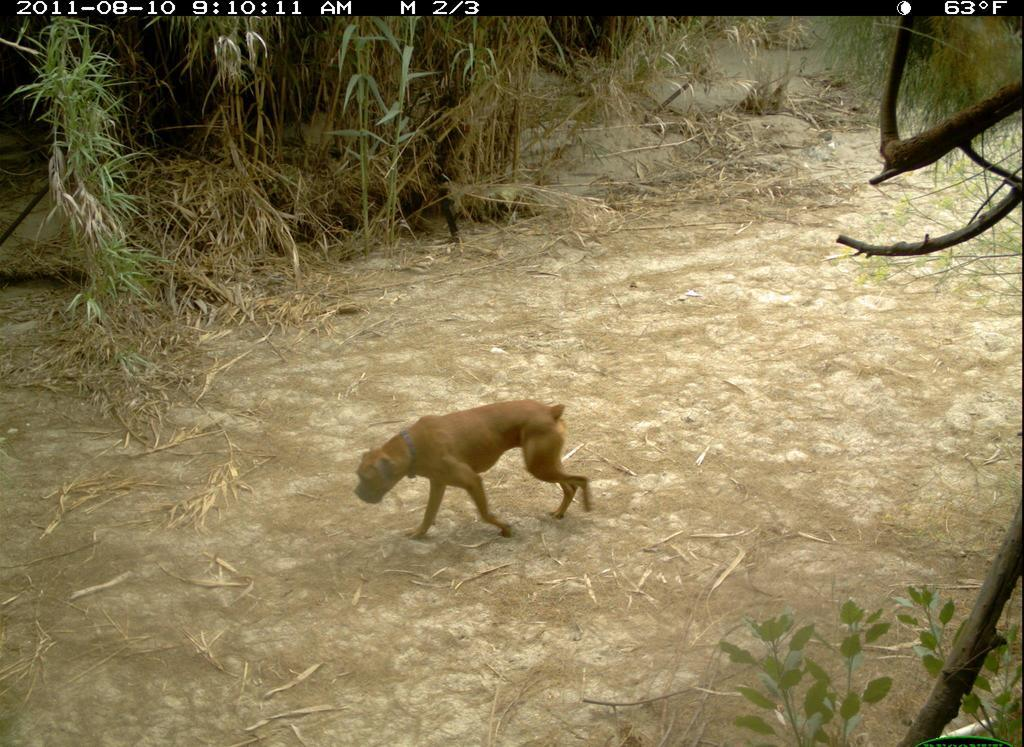dog: (340, 393, 597, 555)
